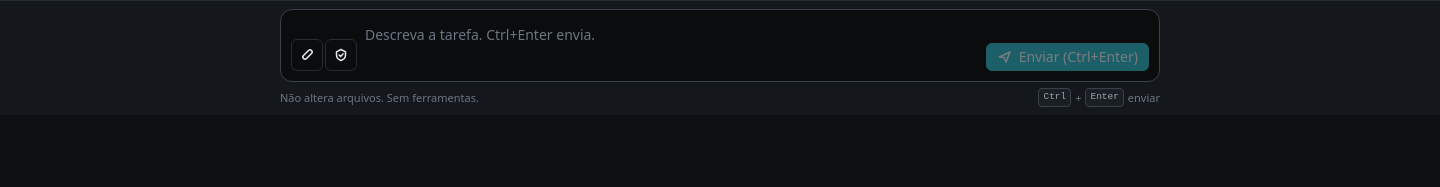
Composer › mostra o motivo quando um anexo falha na preparação
Click the button named "Anexar arquivos" at (307, 55), box [291,39,323,71]
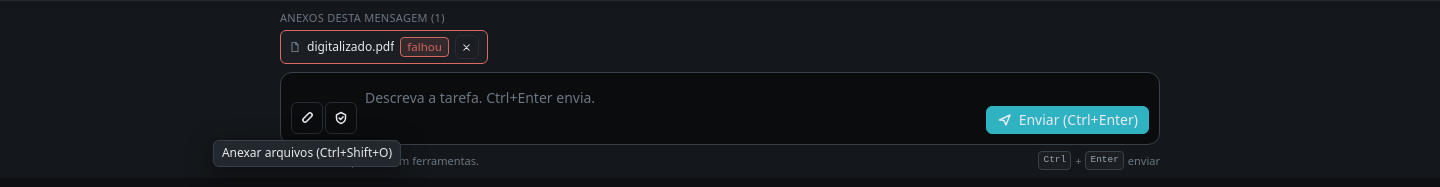
expect the text "digitalizado.pdf" is shown: met, box [307,38,394,56]
expect the text "falhou" is shown: met, box [400,37,449,57]
